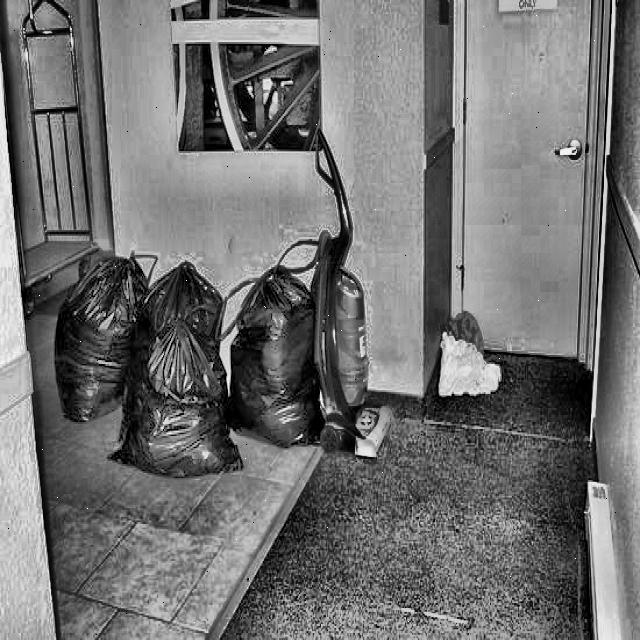Trashbag: (105, 327, 237, 496), (226, 274, 325, 438), (43, 268, 119, 437), (134, 259, 229, 333)
